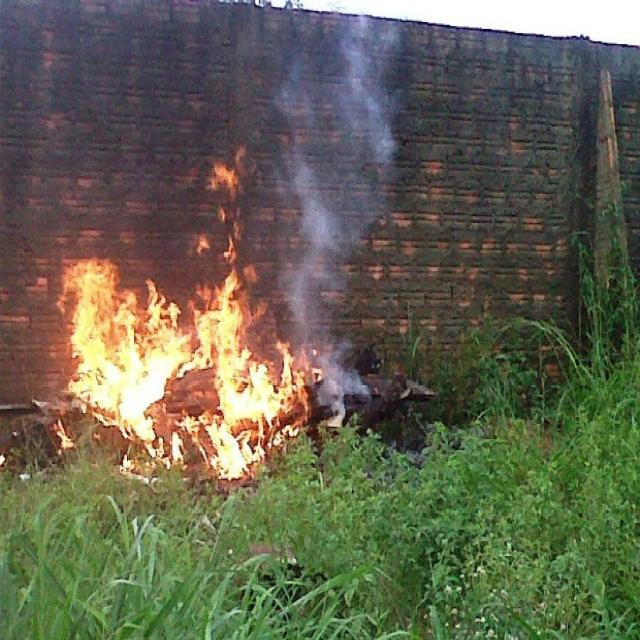Fire: (76, 267, 297, 483)
